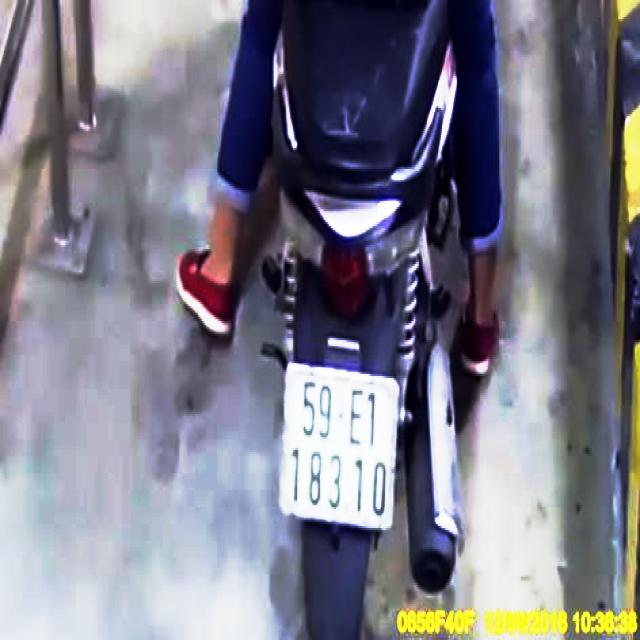license_plate: (281, 364, 398, 532)
